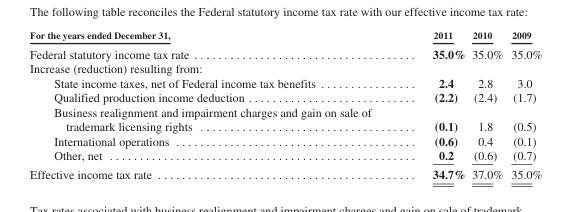table: (29, 29, 541, 181)
table column: (29, 29, 401, 181), (401, 29, 468, 181), (468, 29, 506, 181), (506, 29, 541, 181)
table column header: (29, 29, 541, 43)
table projected row header: (29, 60, 541, 75)
table row: (29, 104, 541, 133), (29, 43, 541, 60), (29, 147, 541, 164), (29, 164, 541, 181), (29, 60, 541, 75), (29, 89, 541, 104), (29, 29, 541, 43), (29, 75, 541, 89), (29, 133, 541, 147)
